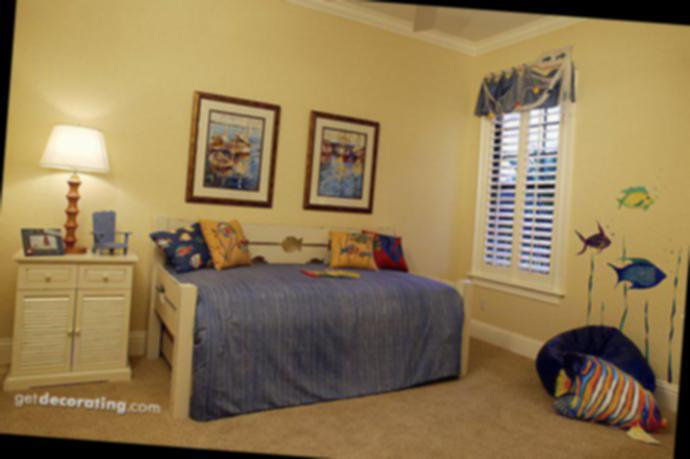Electrodomestico: (523, 315, 667, 450)
